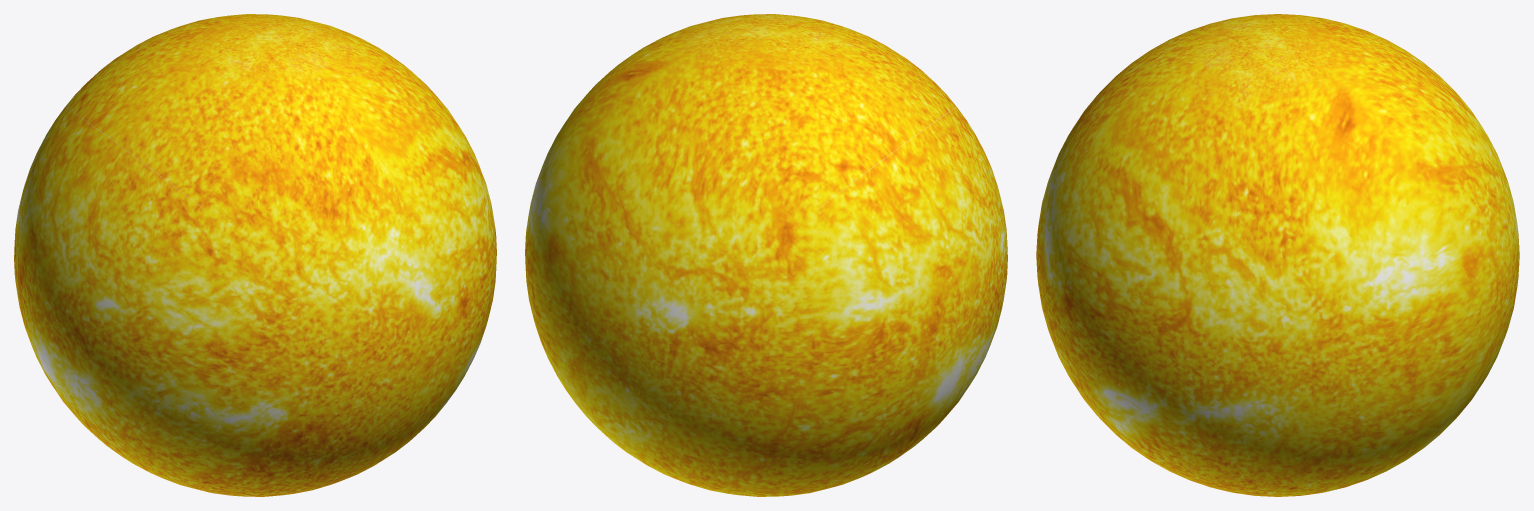
File: SOL_NASA_3.gltf
3 views of the same model, side by side, from view 1: azimuth 30°, elevation 25°; view 2: azimuth 150°, elevation 25°; view 3: azimuth 270°, elevation 25° (orthographic).
Parts seen in each view (by area): view 1: Cube.001; view 2: Cube.001; view 3: Cube.001.
Part boxes in pixels (bbox=[...]): Cube.001: bbox=[14, 14, 496, 496]; Cube.001: bbox=[525, 14, 1007, 496]; Cube.001: bbox=[1036, 14, 1519, 496].
Bounding box in the file's own units: 1000 × 1000 × 1000.
Materials: 1 (1 with a texture image).
